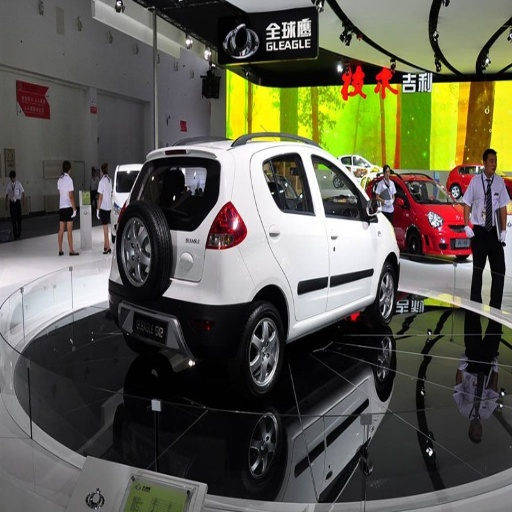back_bumper: (121, 246, 254, 360)
back_right_door: (259, 147, 330, 322)
trunk: (171, 221, 212, 279)
